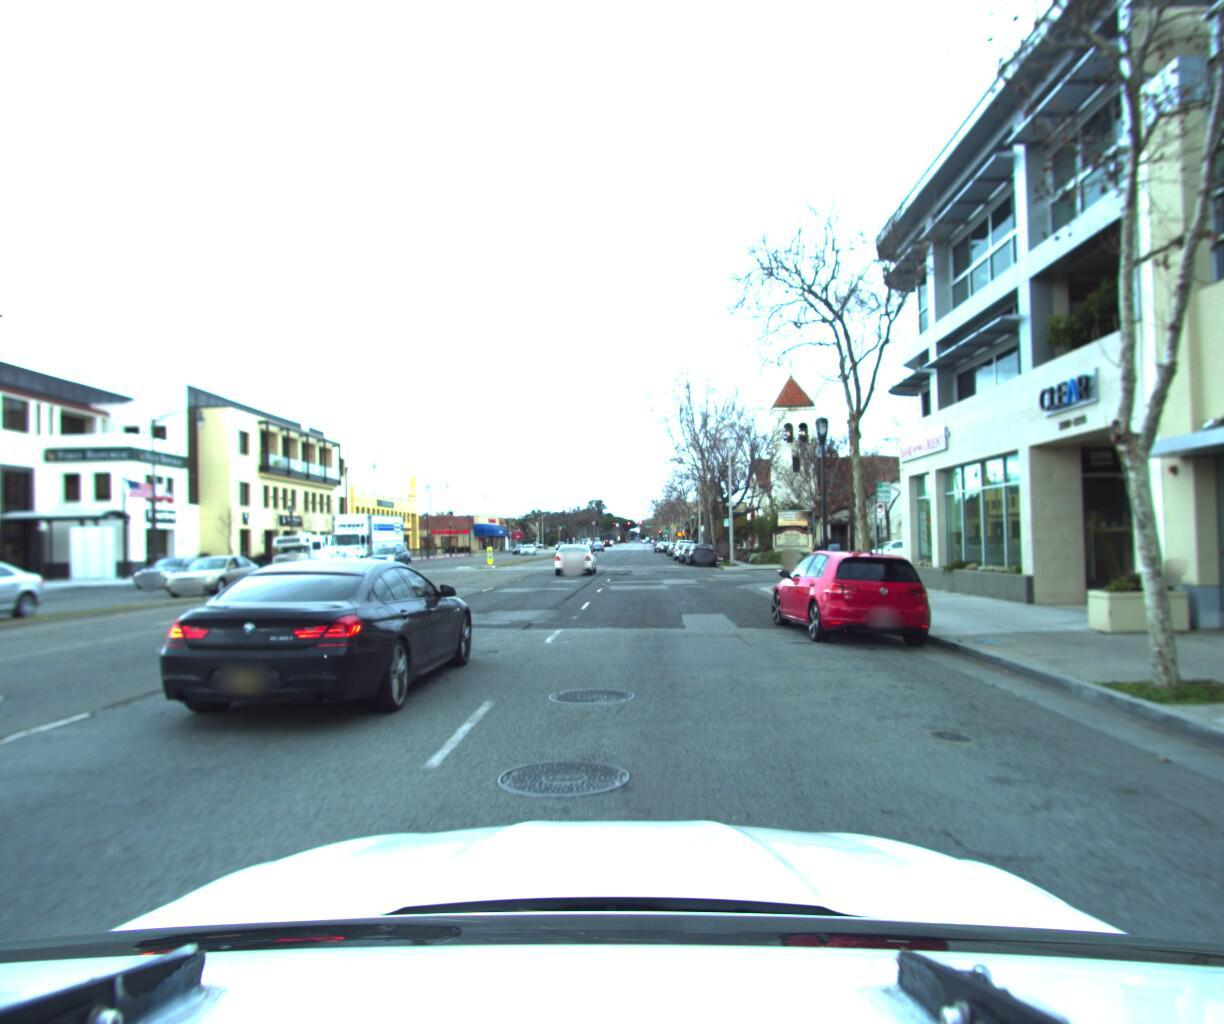car: (125, 540, 484, 736), (759, 540, 952, 646), (0, 556, 60, 641), (156, 553, 267, 597), (129, 555, 219, 592), (840, 530, 939, 561), (546, 535, 600, 573), (360, 542, 417, 573), (685, 537, 717, 561)
other_vehicle: (265, 528, 343, 570)
truck: (306, 507, 412, 573)
